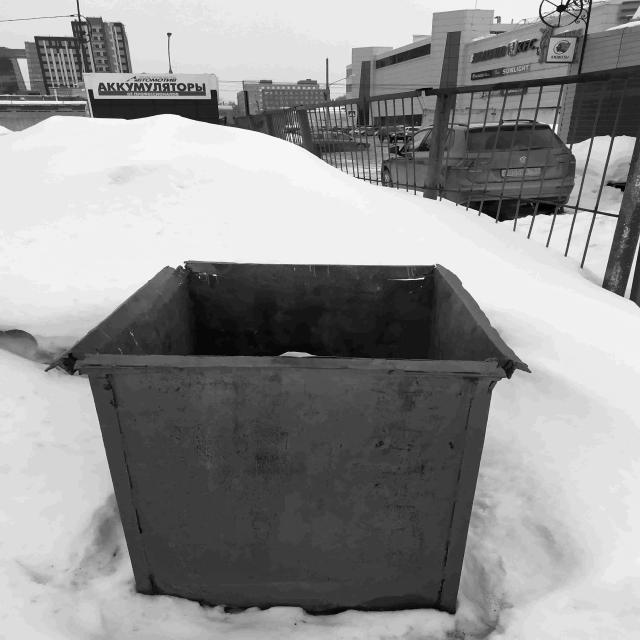bin: (44, 261, 529, 610)
